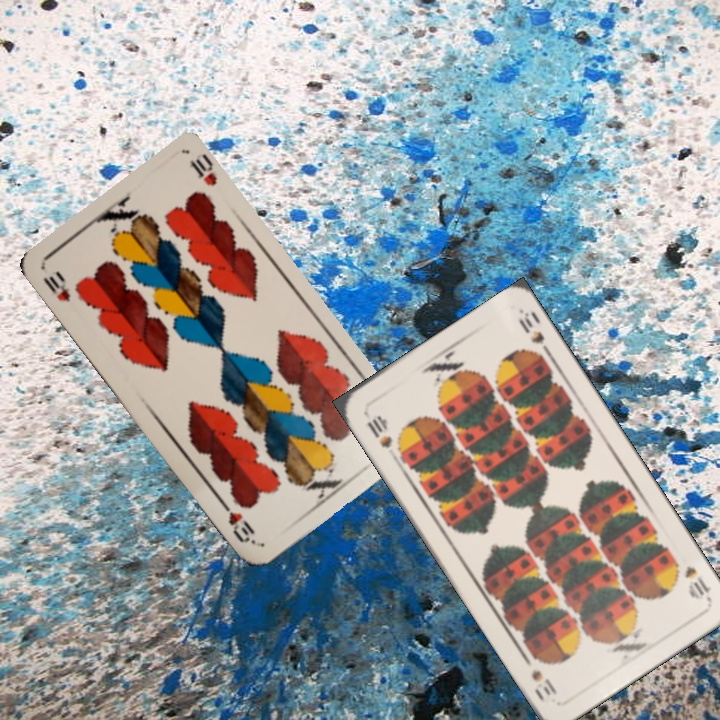H10: (39, 267, 73, 305)
S10: (363, 411, 405, 456), (680, 562, 714, 602)
